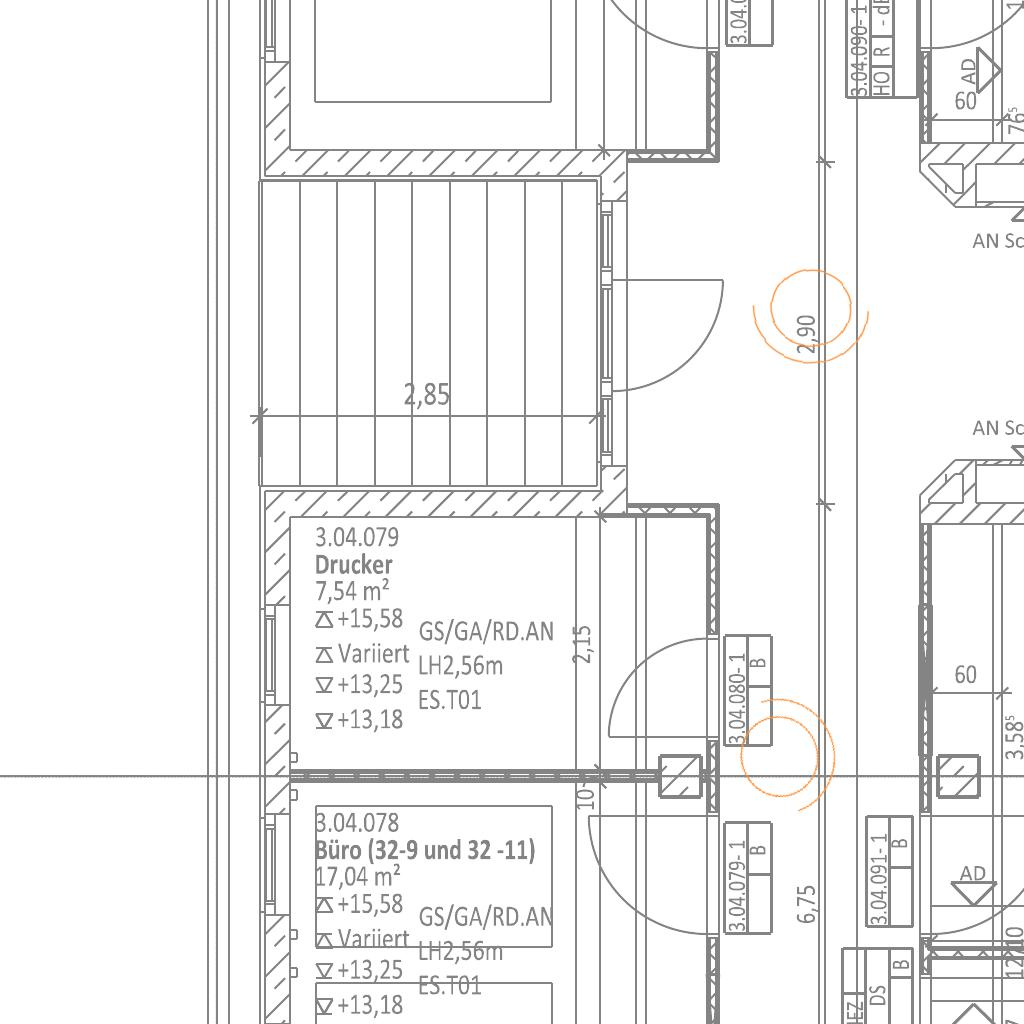Scheinwerfer_fuer_Alarmbeleuchtung: (708, 671, 858, 833), (745, 253, 883, 373)
